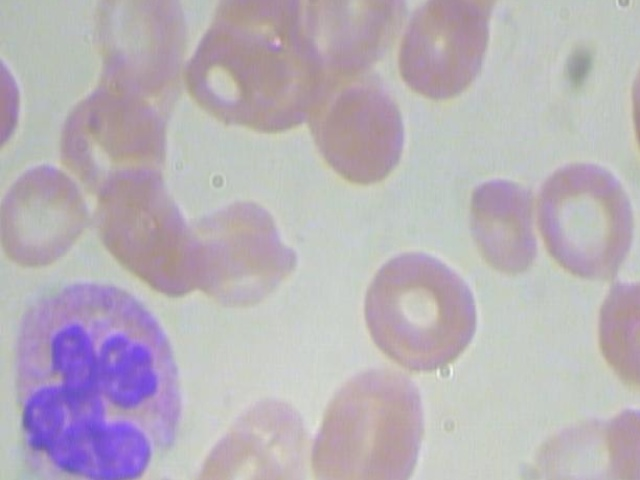RBC: (359, 240, 478, 373), (531, 153, 640, 284), (53, 82, 171, 196), (299, 386, 426, 480), (180, 230, 302, 319), (85, 0, 191, 97), (463, 152, 538, 289), (315, 81, 407, 192), (0, 161, 90, 273), (396, 0, 488, 102), (324, 365, 428, 453), (587, 278, 640, 400)
WBC: (1, 273, 196, 480)
